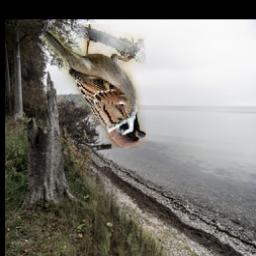Sparrow: (42, 24, 147, 148)
